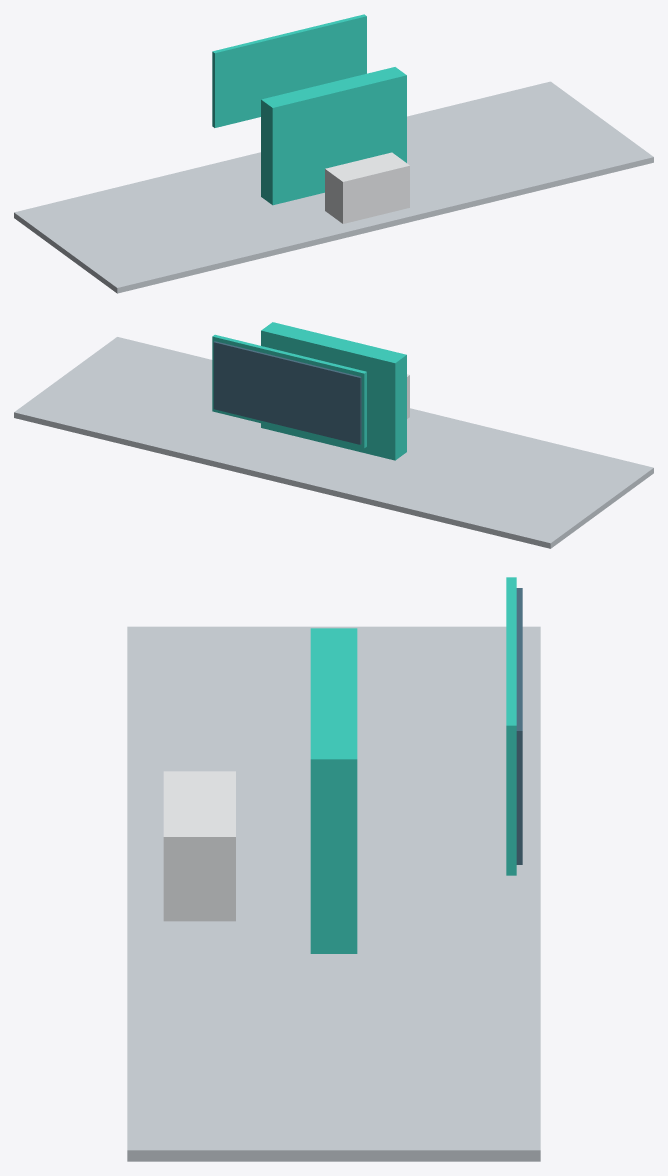
The picture shows the model from 3 angles, top to bottom: view 1: azimuth 30°, elevation 25°; view 2: azimuth 150°, elevation 25°; view 3: azimuth 270°, elevation 25°; orthographic projection. The views are drawn at different scales.
Visible parts, largest first — view 1: Exhibition Booth Concept; view 2: Exhibition Booth Concept; view 3: Exhibition Booth Concept.
Boxes of the visible parts, bbox=[...] form: Exhibition Booth Concept: bbox=[14, 14, 653, 293]; Exhibition Booth Concept: bbox=[14, 322, 653, 548]; Exhibition Booth Concept: bbox=[127, 577, 540, 1161].
Size of the model in its own units: 12 by 2.65 by 4.
